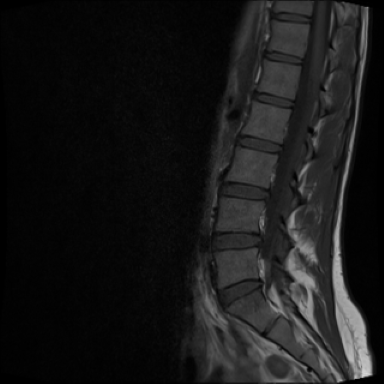Normal IVD: (210, 273, 266, 315), (205, 227, 264, 258), (213, 178, 268, 207), (231, 133, 284, 159), (245, 90, 295, 113), (259, 49, 305, 68), (268, 9, 314, 26)
